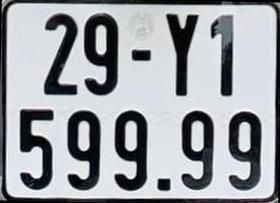-: (132, 50, 151, 62)
.: (157, 178, 171, 191)
1: (212, 14, 233, 98)
2: (45, 14, 76, 95)
5: (20, 110, 52, 189)
9: (84, 14, 118, 94), (114, 111, 147, 192), (67, 111, 101, 188), (228, 111, 261, 190), (182, 109, 213, 191)
Y: (165, 14, 199, 96)
